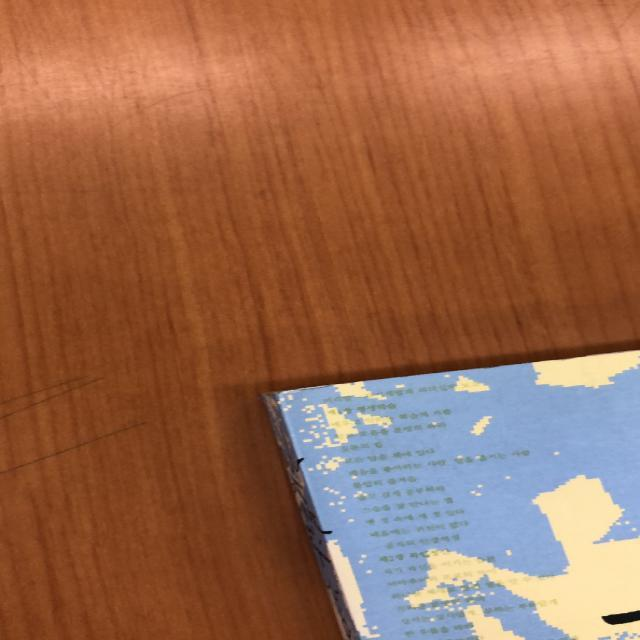Wornout: (259, 384, 337, 398)
